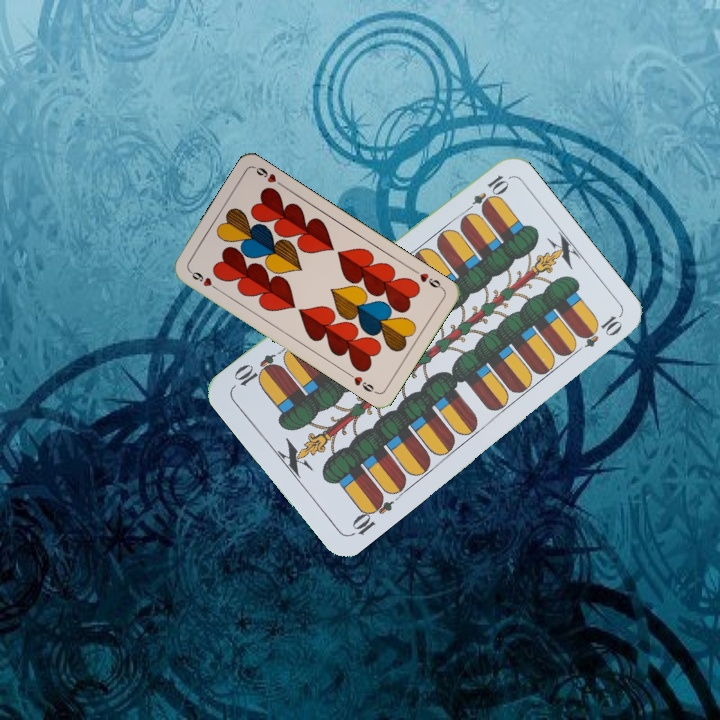E10: (346, 490, 396, 539), (460, 170, 511, 218)
H9: (410, 265, 446, 292), (185, 266, 221, 293)
